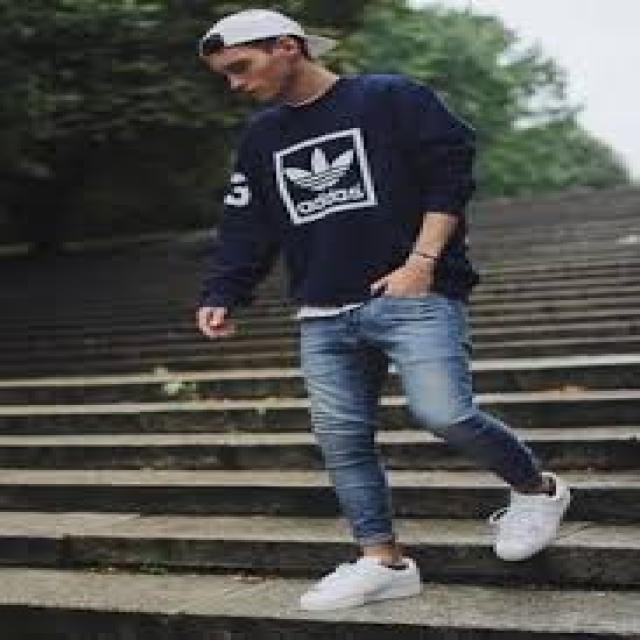cap: (199, 7, 350, 100)
